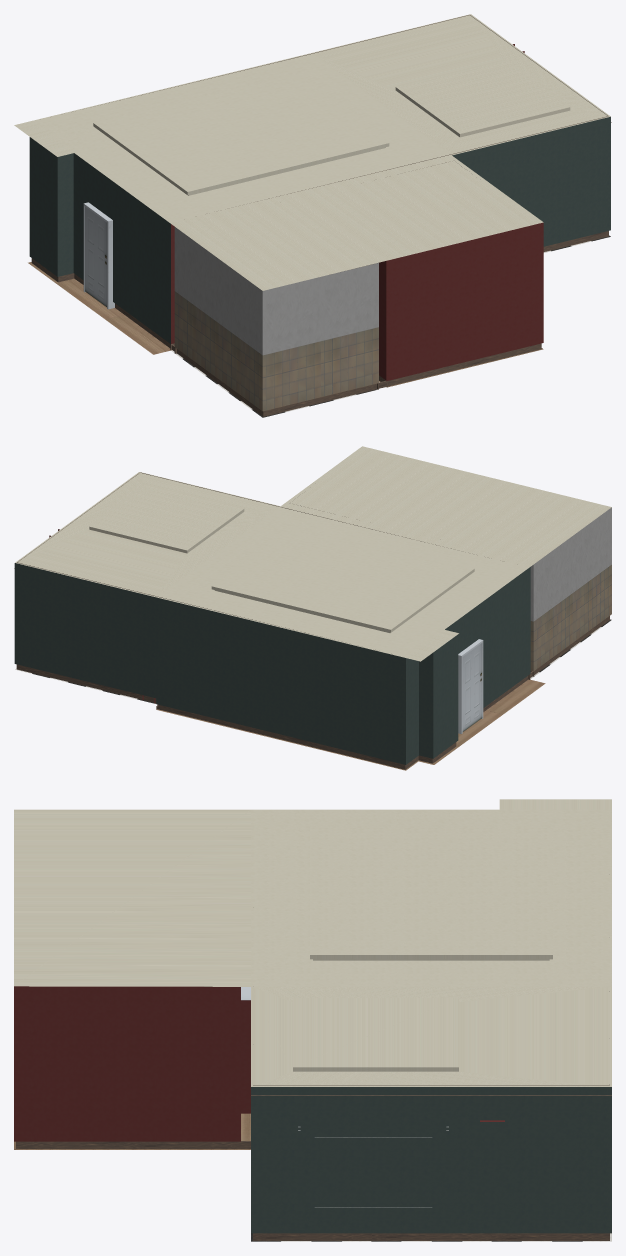
File: APARTMET.fbx
3 renders of one model, top to bottom at view 1: azimuth 30°, elevation 25°; view 2: azimuth 150°, elevation 25°; view 3: azimuth 270°, elevation 25°, orthographic. The views are drawn at different scales.
Visible parts, largest first — view 1: APARTMENT; view 2: APARTMENT; view 3: APARTMENT.
Boxes of the visible parts, <box> form: APARTMENT: <box>14,14,611,417</box>; APARTMENT: <box>14,446,611,770</box>; APARTMENT: <box>14,799,611,1241</box>.
Size of the model in its own units: 1148 by 315 by 1003.
11 materials, 11 textured.
